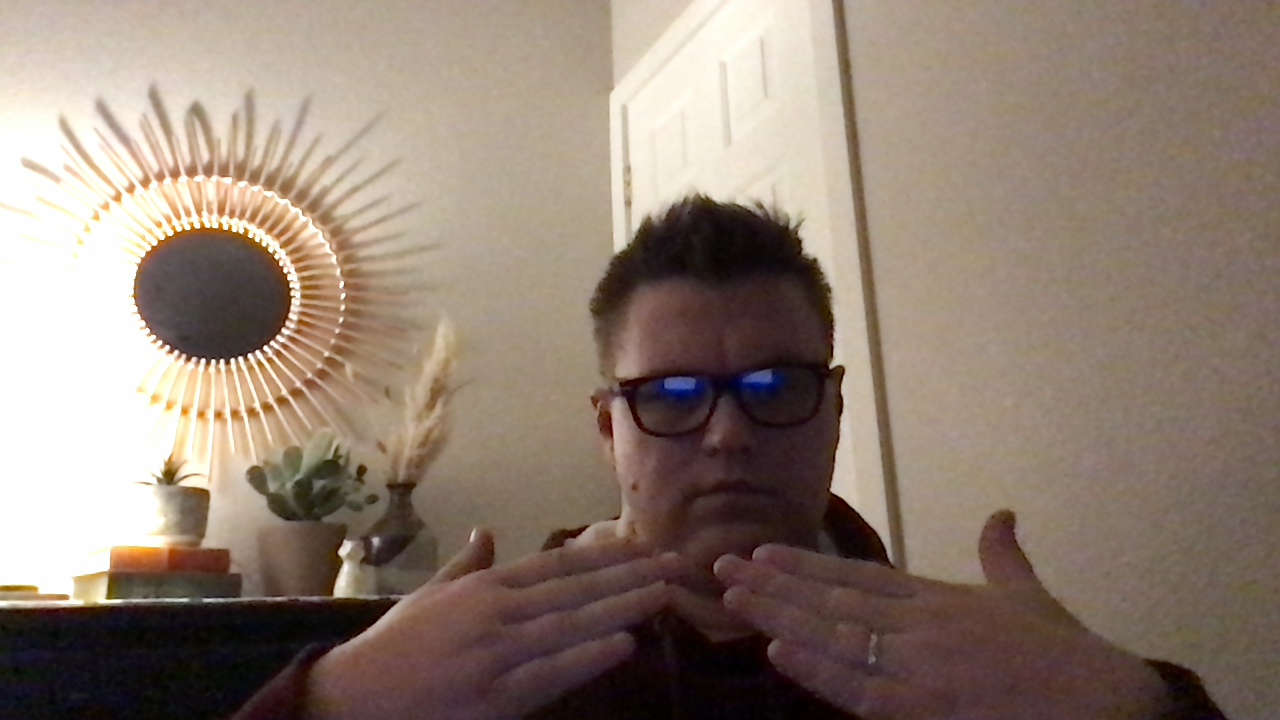thankyou: (291, 506, 1187, 720)
